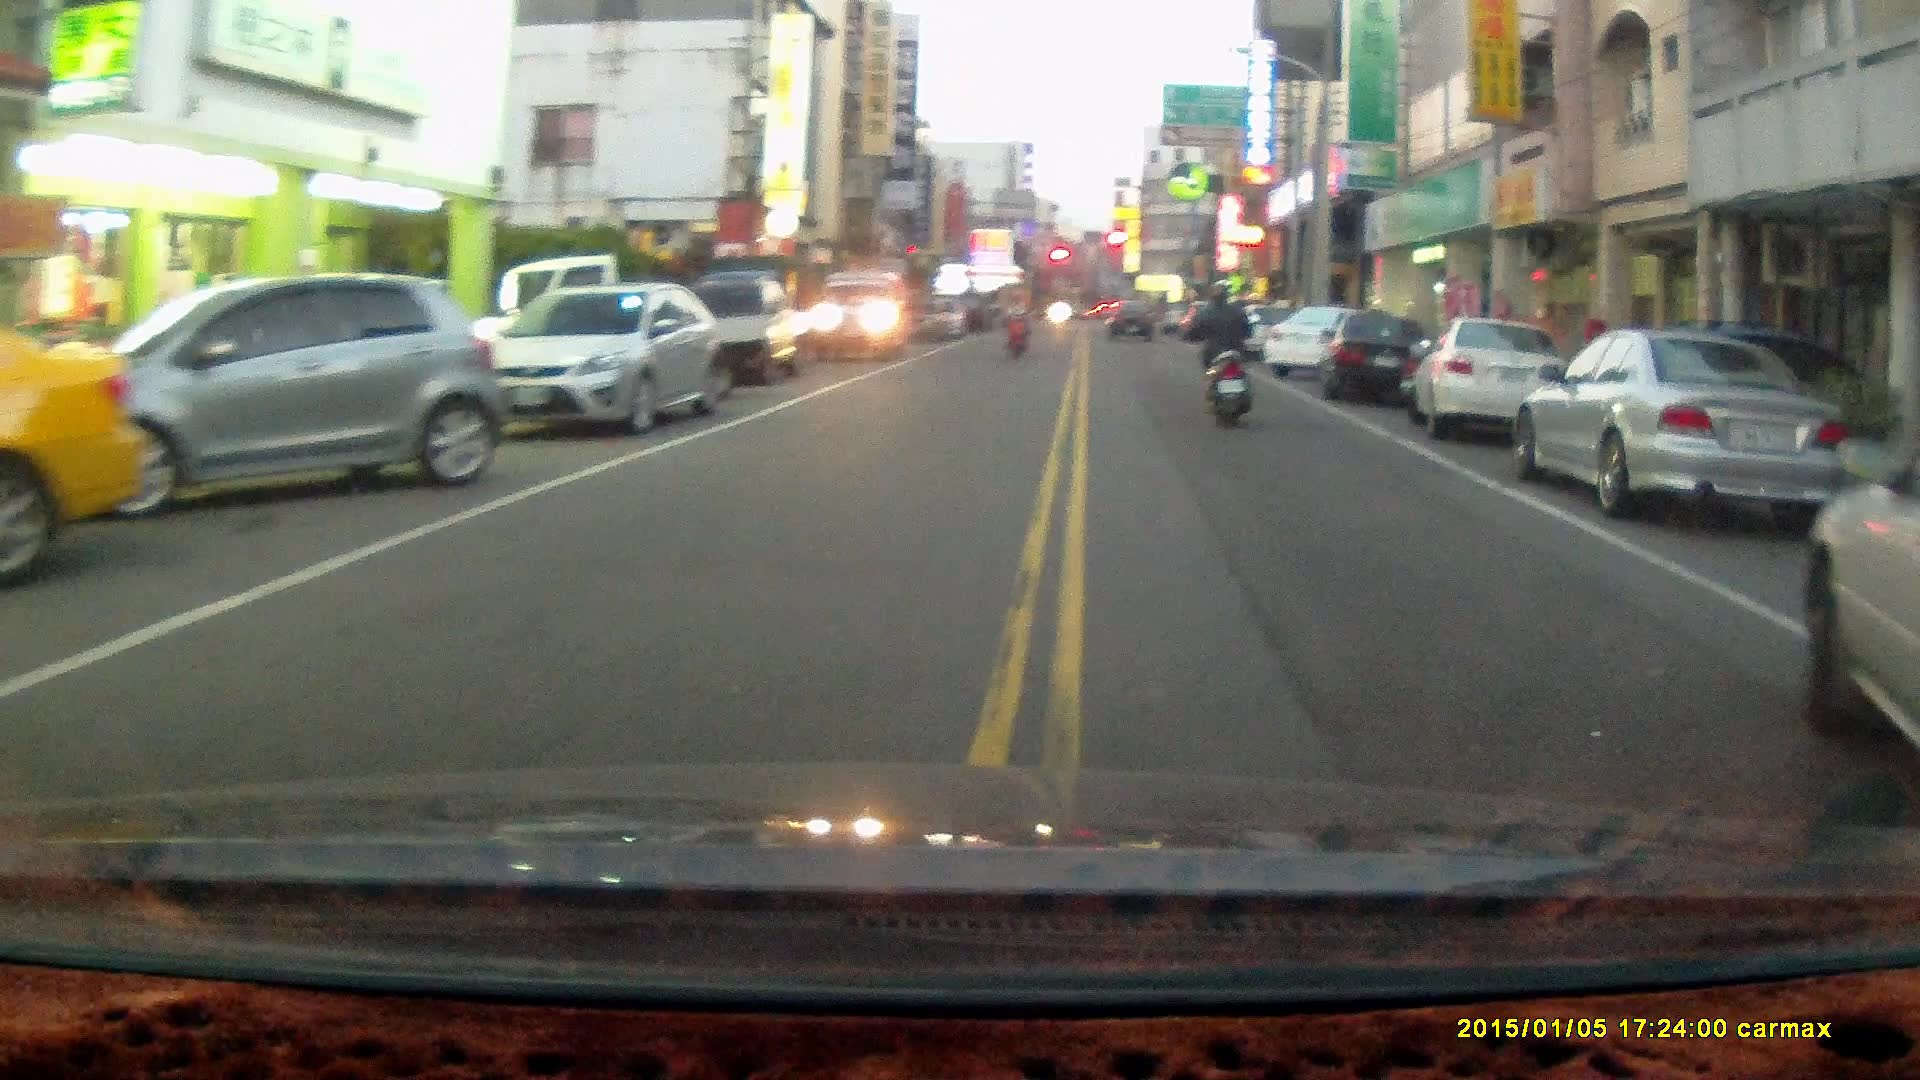rider: (1184, 282, 1257, 430), (997, 284, 1027, 361)
vehicle: (66, 275, 499, 520), (1515, 324, 1850, 524), (1801, 425, 1919, 820), (1, 292, 147, 593), (484, 282, 732, 440), (1412, 318, 1566, 440), (674, 273, 819, 388), (1323, 306, 1438, 411), (813, 268, 913, 363)
